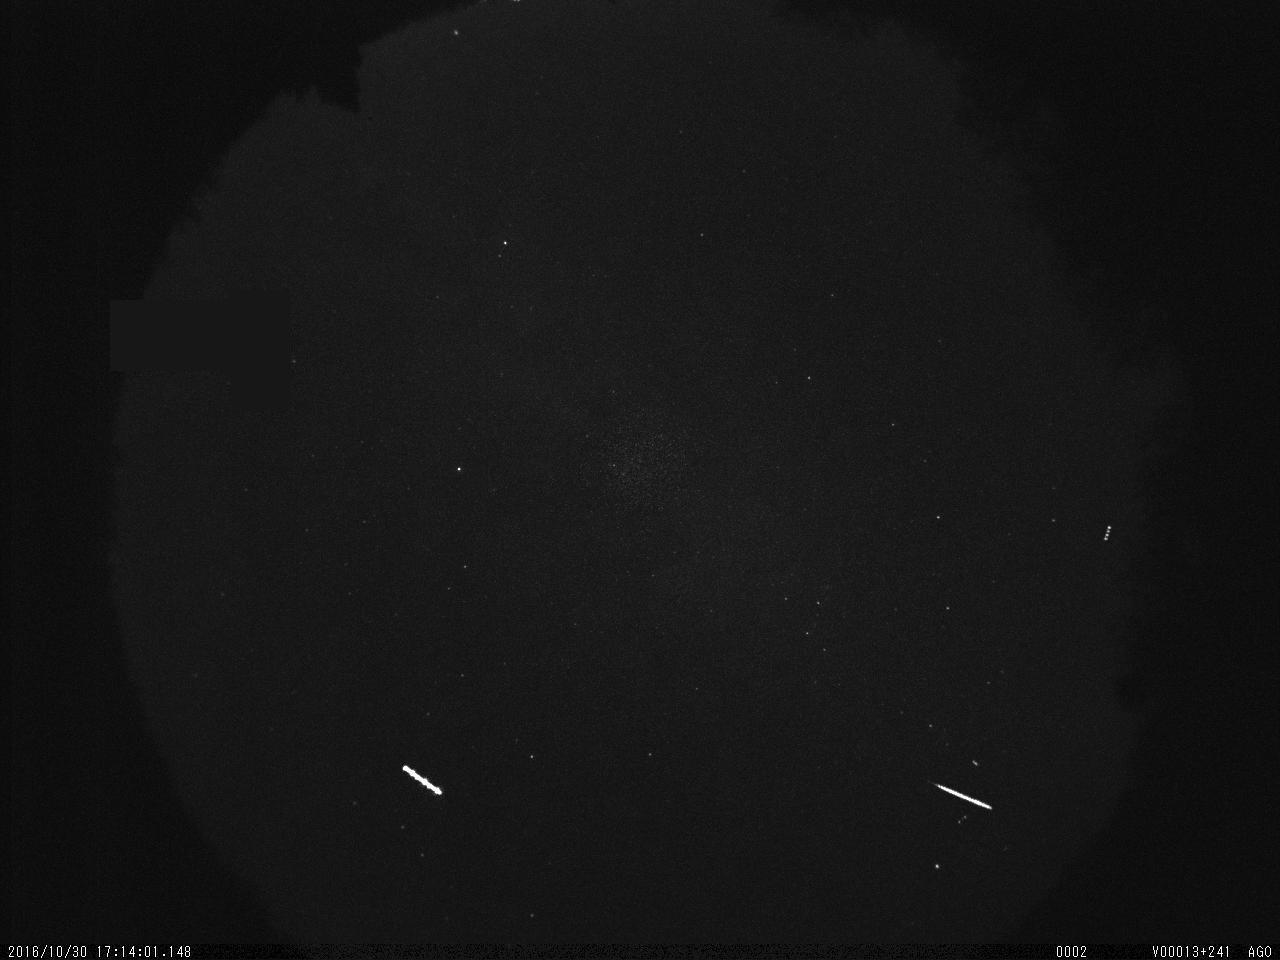meteor: (925, 770, 1000, 820)
satelite: (396, 757, 451, 805), (1097, 520, 1117, 550)
